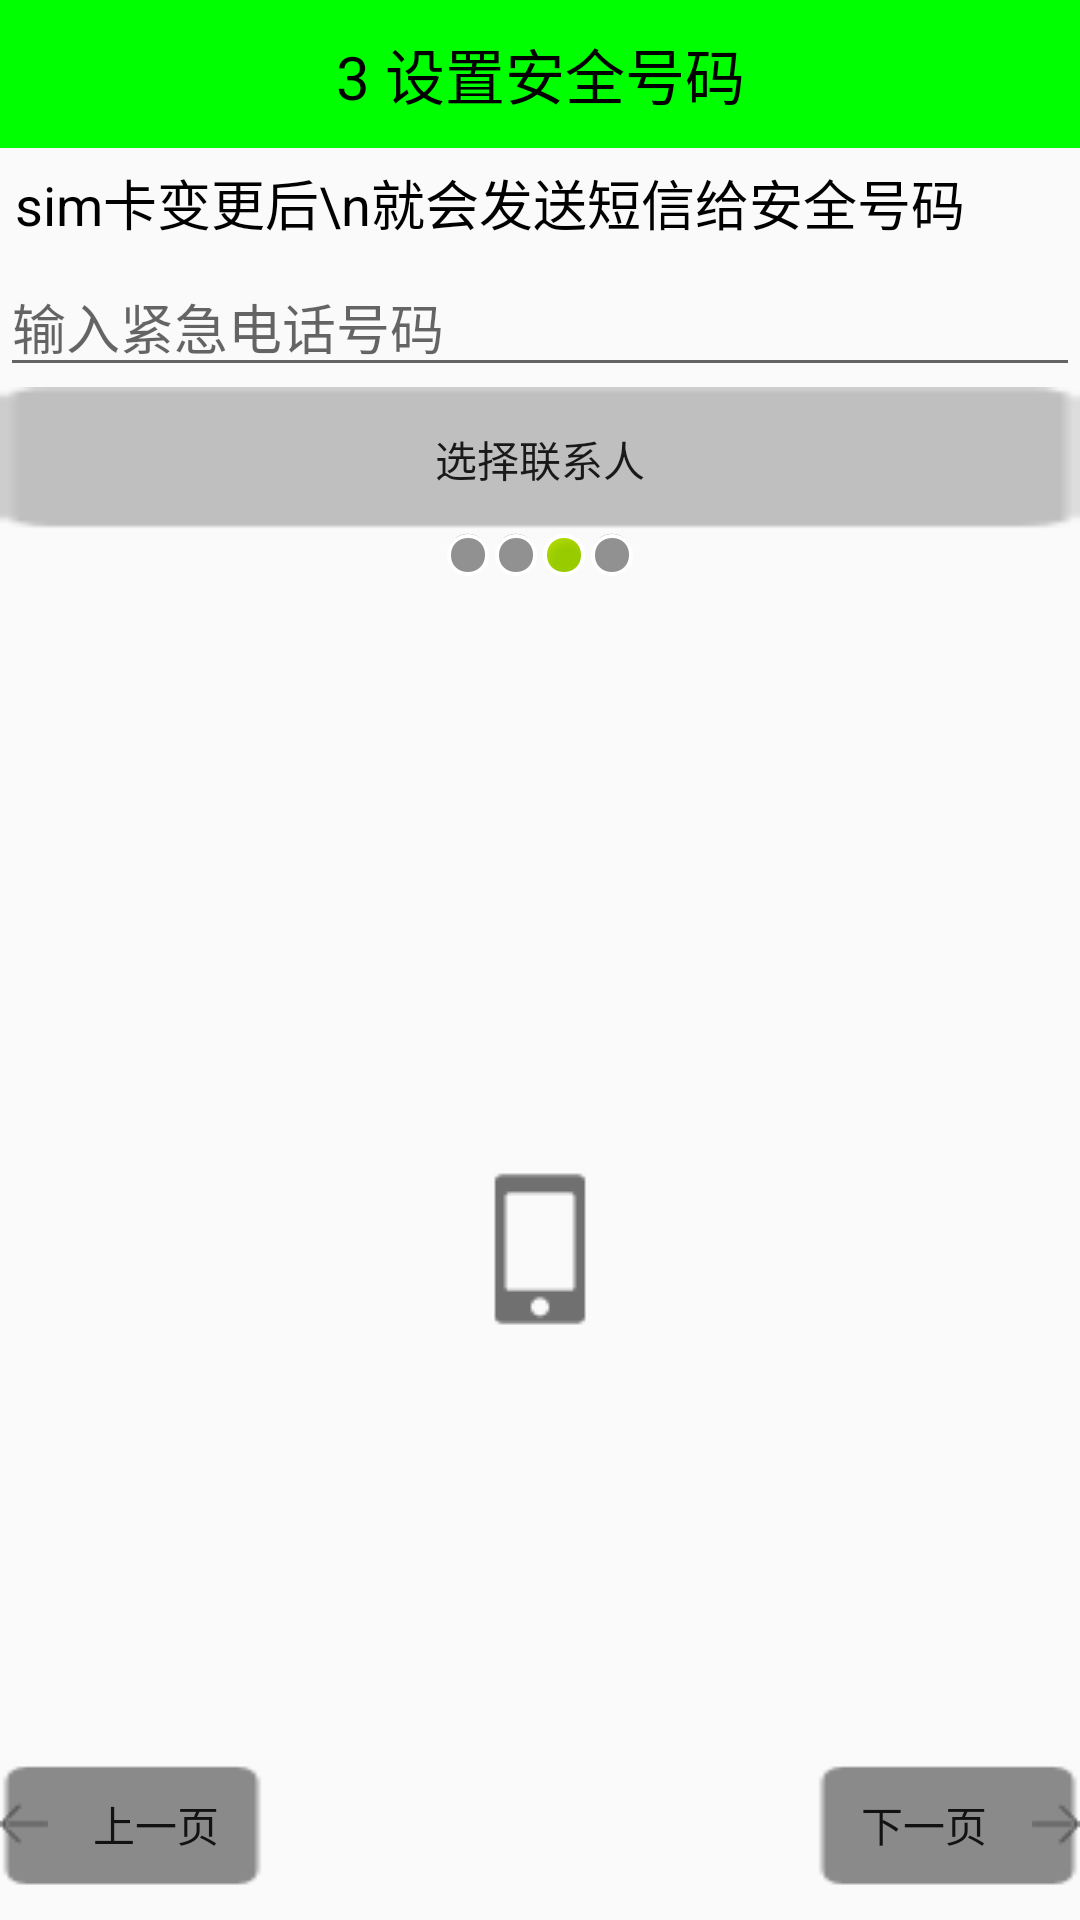

Named icons in this screenshot (1080 x 1920) and their centers, (x=x, y=y):
presence invisible: (x=468, y=553), (x=516, y=553), (x=612, y=553)
presence online: (x=564, y=555)
